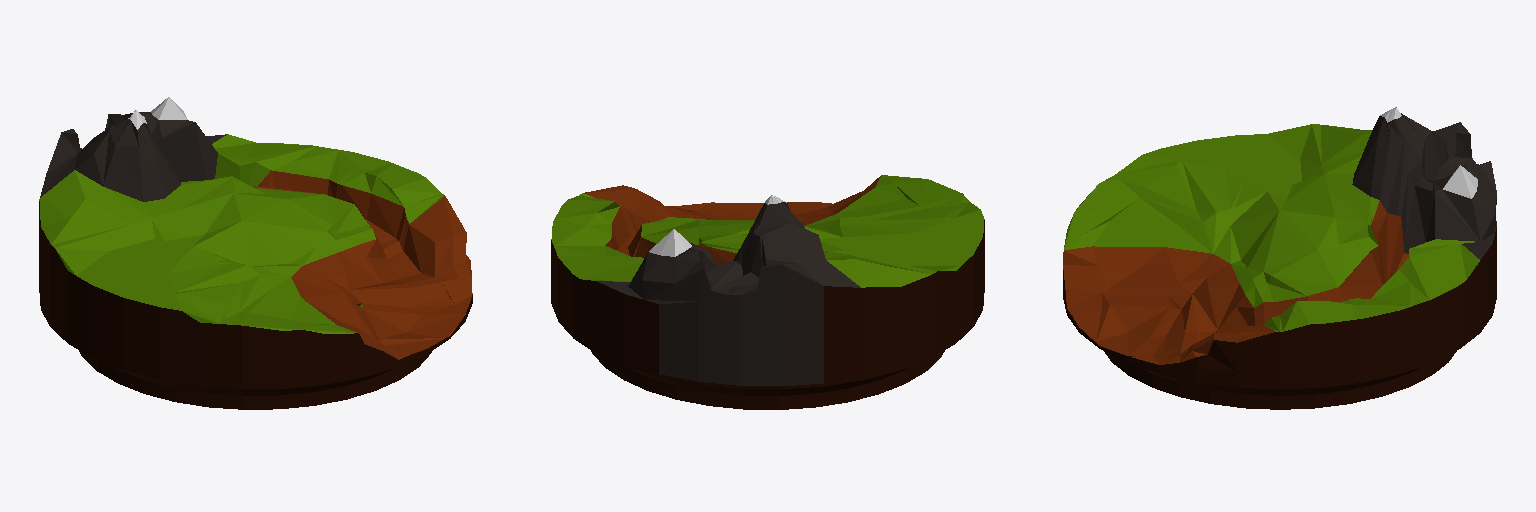
Rendered from bigWorld.obj.
3 renders of one model, left to right at view 1: azimuth 30°, elevation 25°; view 2: azimuth 150°, elevation 25°; view 3: azimuth 270°, elevation 25°, orthographic.
Parts seen in each view (by area): view 1: Jord_under_Cylinder; view 2: Jord_under_Cylinder; view 3: Jord_under_Cylinder.
Part boxes in pixels (x1,y1,x2,y2): Jord_under_Cylinder: (39,97,472,409); Jord_under_Cylinder: (551,175,984,409); Jord_under_Cylinder: (1063,107,1496,409).
Size of the model in its own units: 220 by 133 by 220.